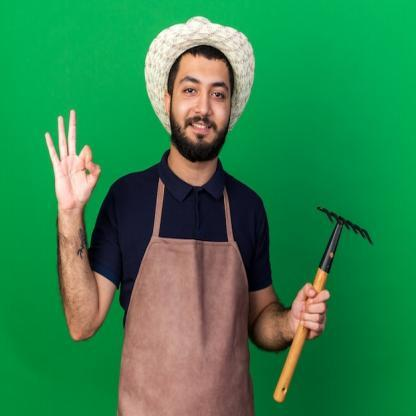ok: (44, 105, 101, 212)
